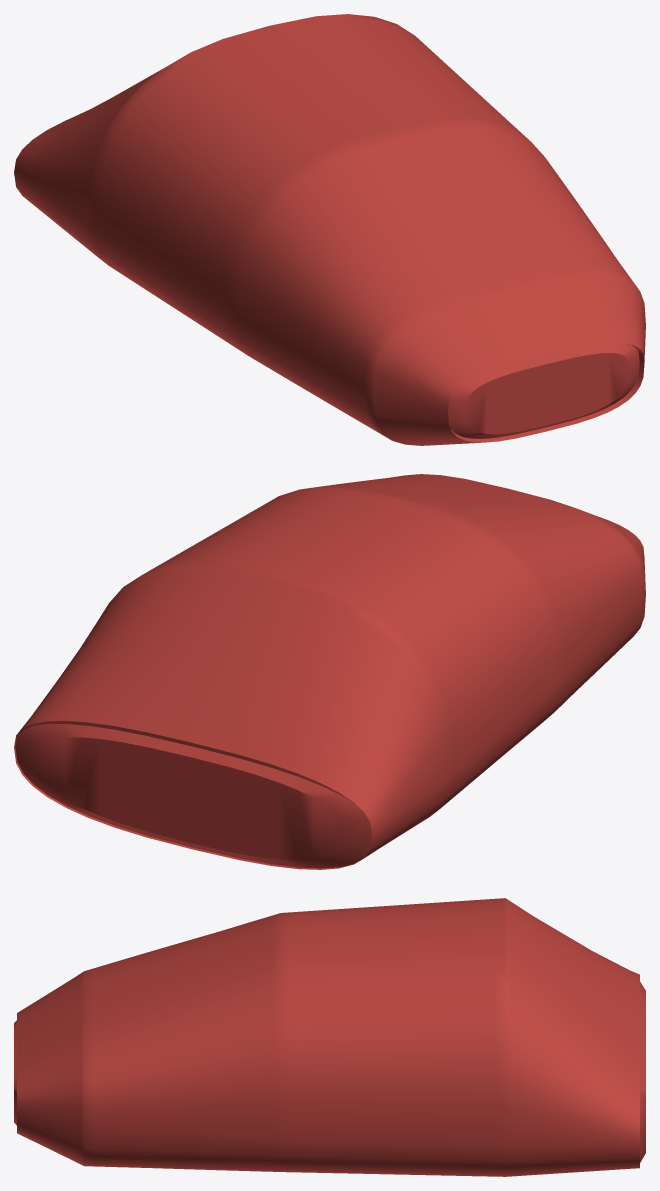
The model's file is hump.glb.
The picture shows the model from 3 angles, top to bottom: view 1: azimuth 30°, elevation 25°; view 2: azimuth 150°, elevation 25°; view 3: azimuth 270°, elevation 25°; orthographic projection. The views are drawn at different scales.
Visible parts, largest first — view 1: lod0; view 2: lod0; view 3: lod0.
Part boxes in pixels (x1,y1,x2,y2): lod0: [14, 14, 645, 445]; lod0: [14, 474, 645, 869]; lod0: [14, 898, 645, 1176].
Size of what is drawn, in the model's own units: 0.26 by 0.16 by 0.45.
